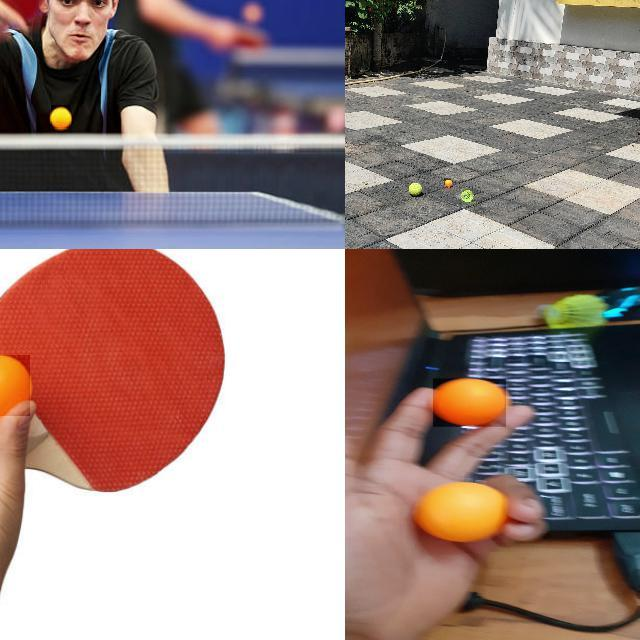ping-pong-ball: (418, 482, 506, 542), (432, 378, 508, 428), (0, 355, 32, 418), (51, 105, 71, 129), (243, 3, 263, 23), (444, 178, 452, 186)
